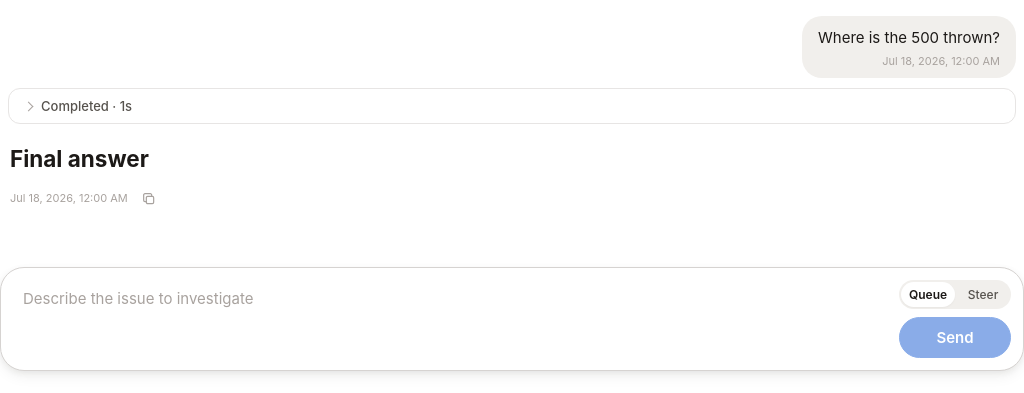
Test: Chat › copies the complete assistant Markdown and confirms success
Click the button named "Copy assistant message" at {"x": 149, "y": 199}, box [136, 187, 162, 211]
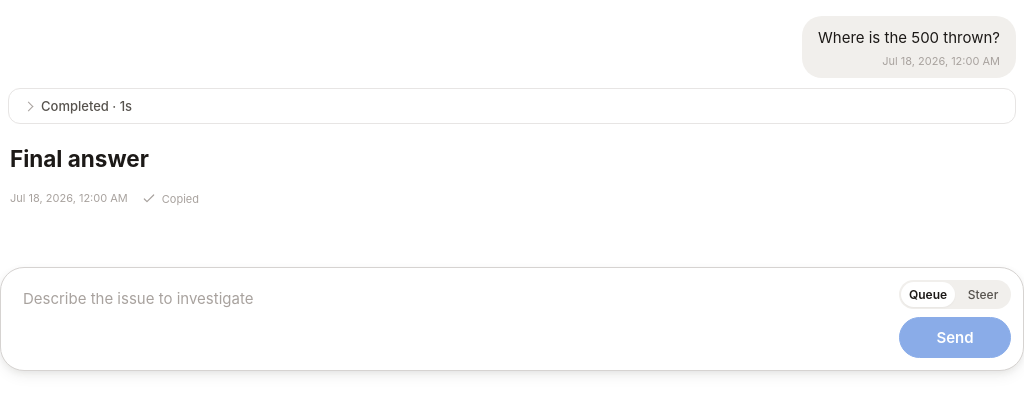
Check: the button with aria-label "Copied assistant message" is shown, box [136, 187, 204, 211]
Check: the text "Copied" is shown, box [162, 192, 199, 206]
